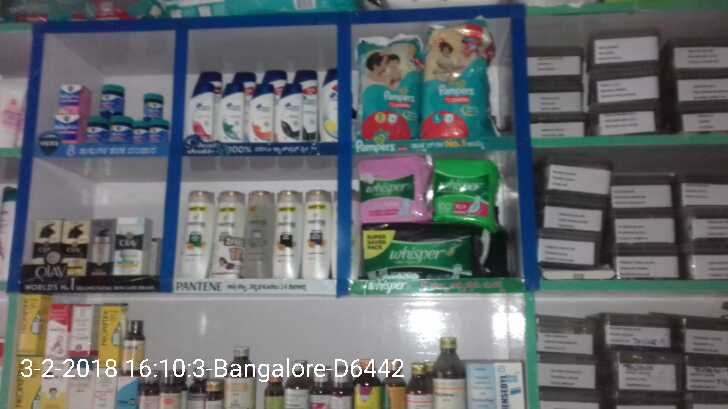vicks: (57, 81, 171, 146)
